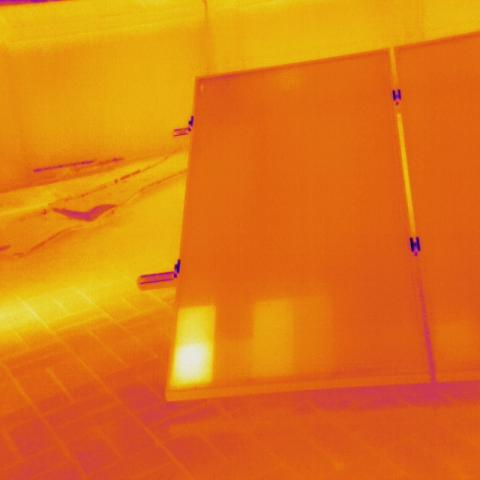fault: (174, 304, 220, 392), (248, 299, 290, 374)
